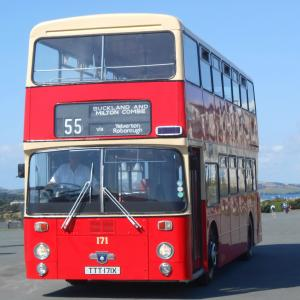Vehicle-registration-plate: (86, 269, 121, 275)
